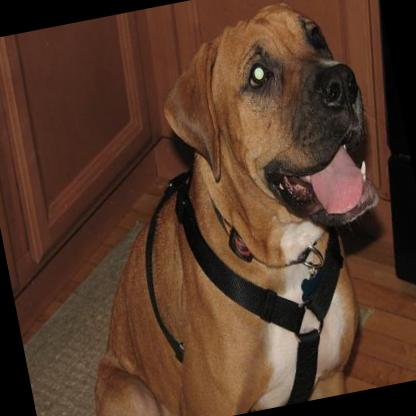boxer: (12, 0, 416, 416)
